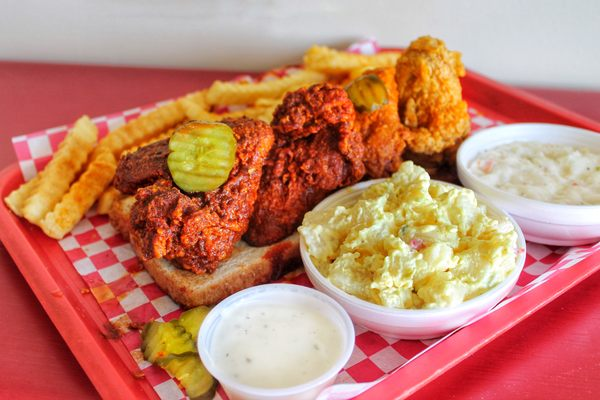sushi: (299, 164, 527, 340), (197, 281, 356, 396), (455, 122, 600, 247)
